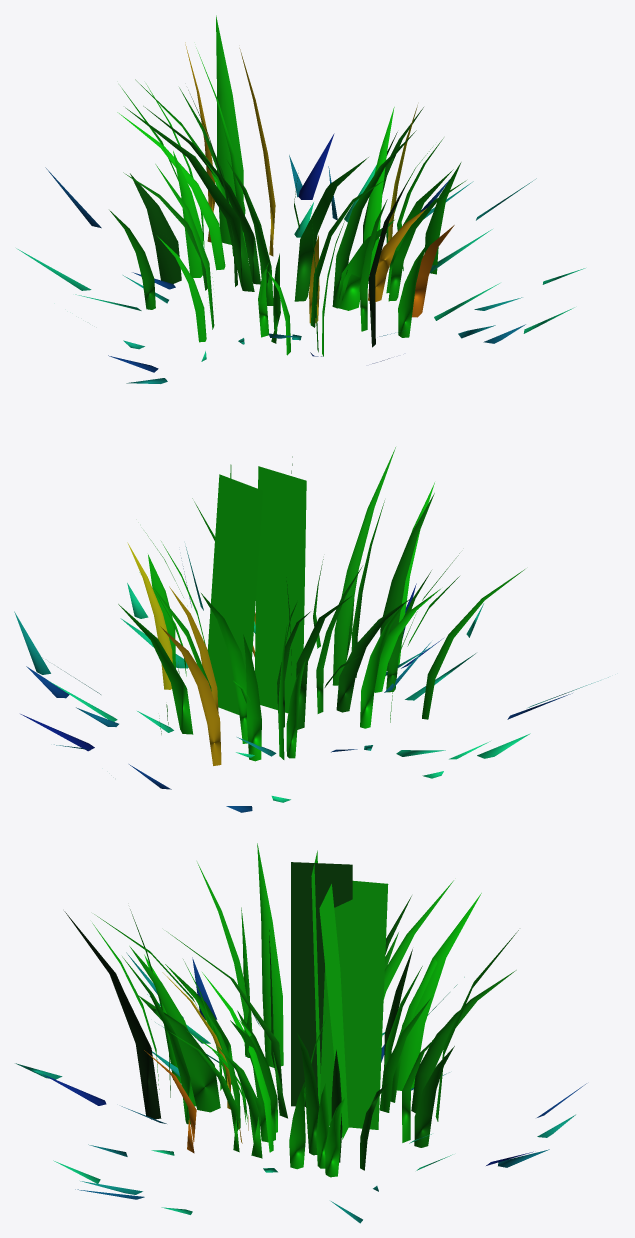
File: meadow.glb
3 renders of one model, top to bottom at view 1: azimuth 30°, elevation 25°; view 2: azimuth 150°, elevation 25°; view 3: azimuth 270°, elevation 25°, orthographic. The views are drawn at different scales.
Parts seen in each view (by area): view 1: meadow_1_0, meadow_0_0, meadow_0_1, meadow_1_1; view 2: meadow_0_0, meadow_1_0, meadow_0_1, meadow_1_1; view 3: meadow_0_0, meadow_0_1, meadow_1_0, meadow_1_1.
Boxes of the visible parts, box(x1,y1,x2,y2) form: meadow_1_0: box(108, 42, 574, 372); meadow_0_0: box(45, 48, 585, 361); meadow_0_1: box(16, 15, 473, 383); meadow_1_1: box(123, 157, 461, 363); meadow_0_0: box(26, 447, 524, 812); meadow_1_0: box(14, 456, 572, 789); meadow_0_1: box(54, 553, 608, 759); meadow_1_1: box(49, 554, 530, 758); meadow_0_0: box(92, 850, 459, 1214); meadow_0_1: box(64, 843, 549, 1199); meadow_1_0: box(15, 896, 586, 1223); meadow_1_1: box(43, 949, 575, 1170).
Size of the model in its own units: 1.01 by 0.4565 by 1.01.
